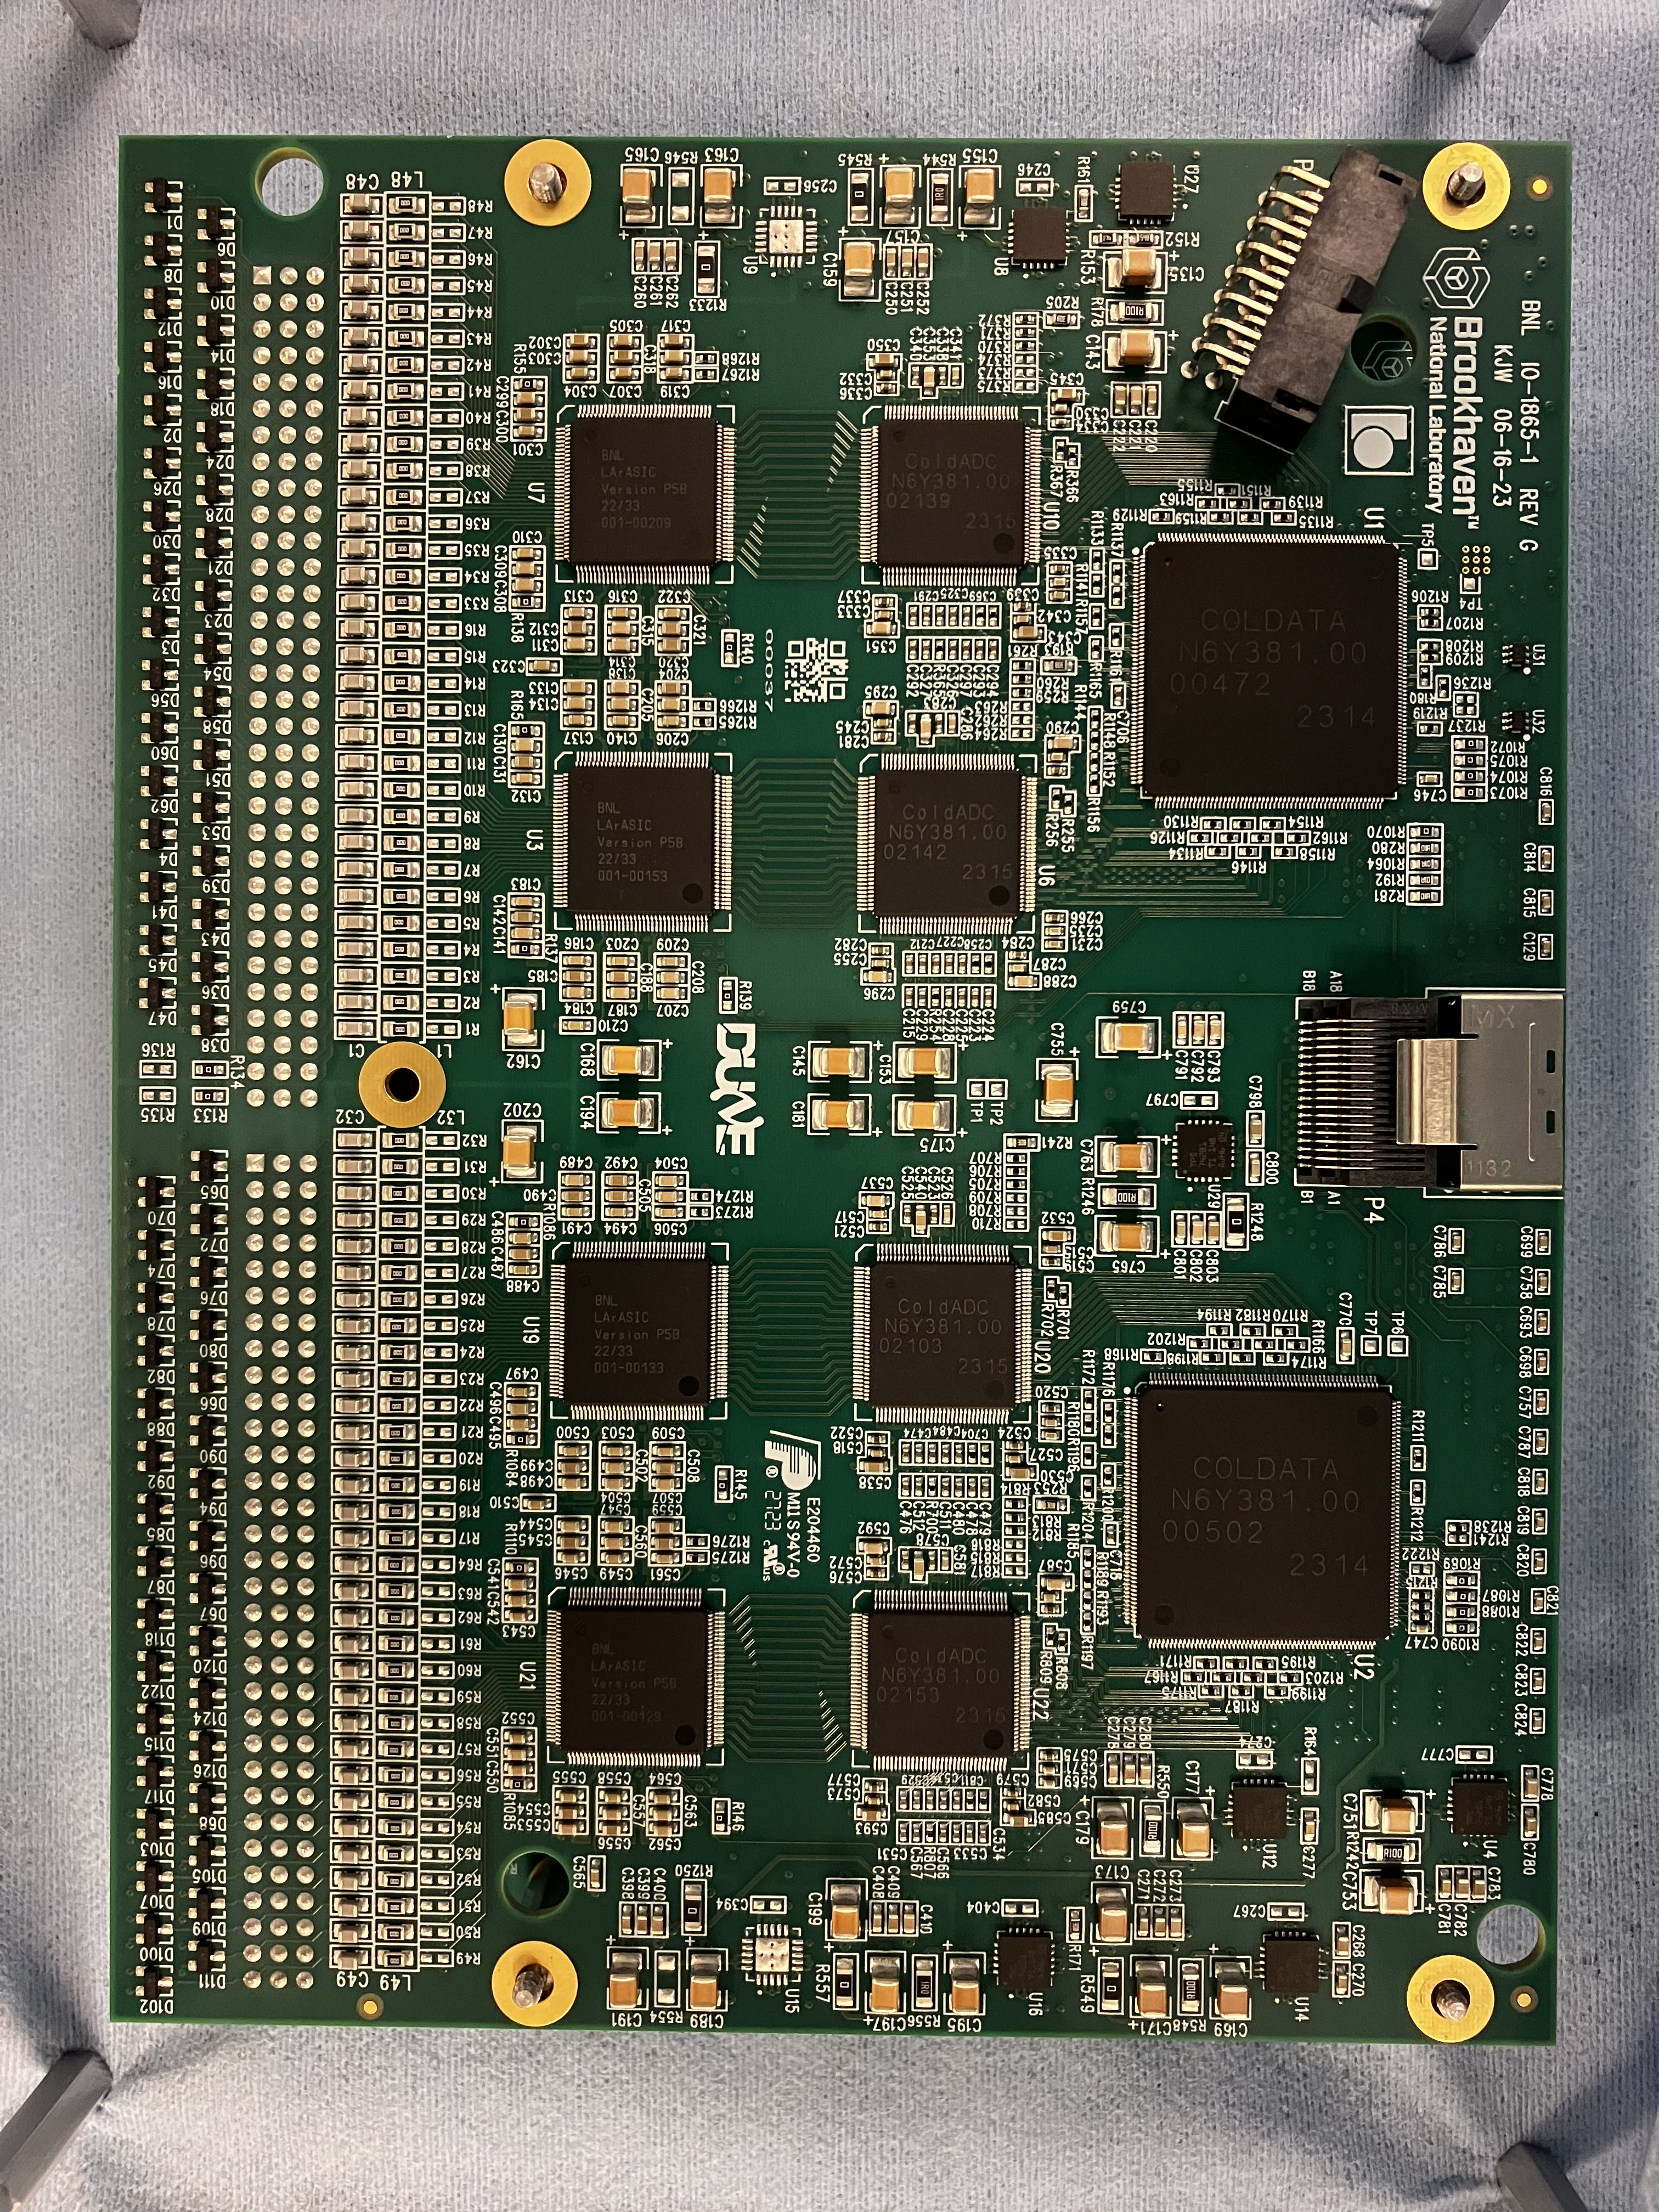chip: (1136, 1385, 1391, 1641), (1143, 540, 1398, 796), (877, 416, 1023, 564), (875, 770, 1021, 918), (870, 1261, 1016, 1409), (563, 1604, 709, 1752), (572, 420, 716, 568), (568, 768, 713, 916), (565, 1258, 709, 1406), (868, 1606, 1012, 1754)
